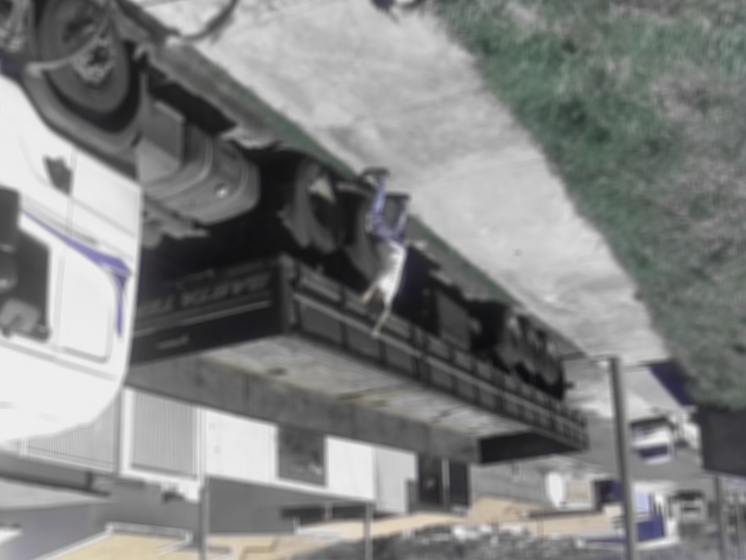person: (349, 164, 413, 338)
